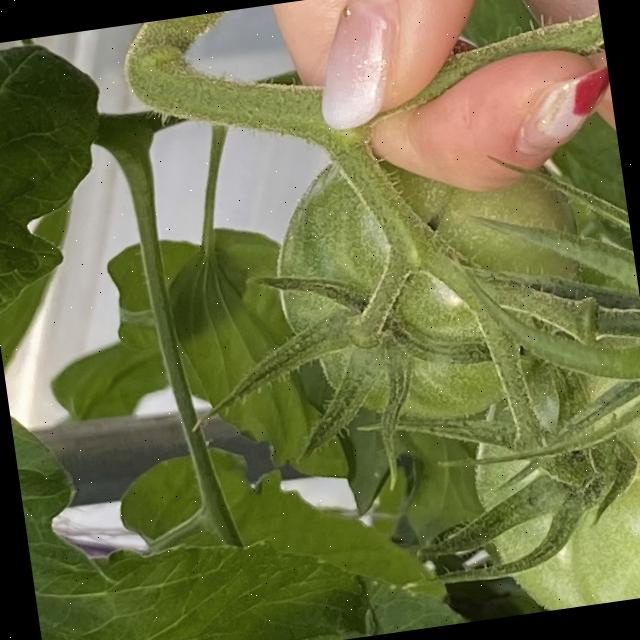tomato: (81, 0, 640, 640)
